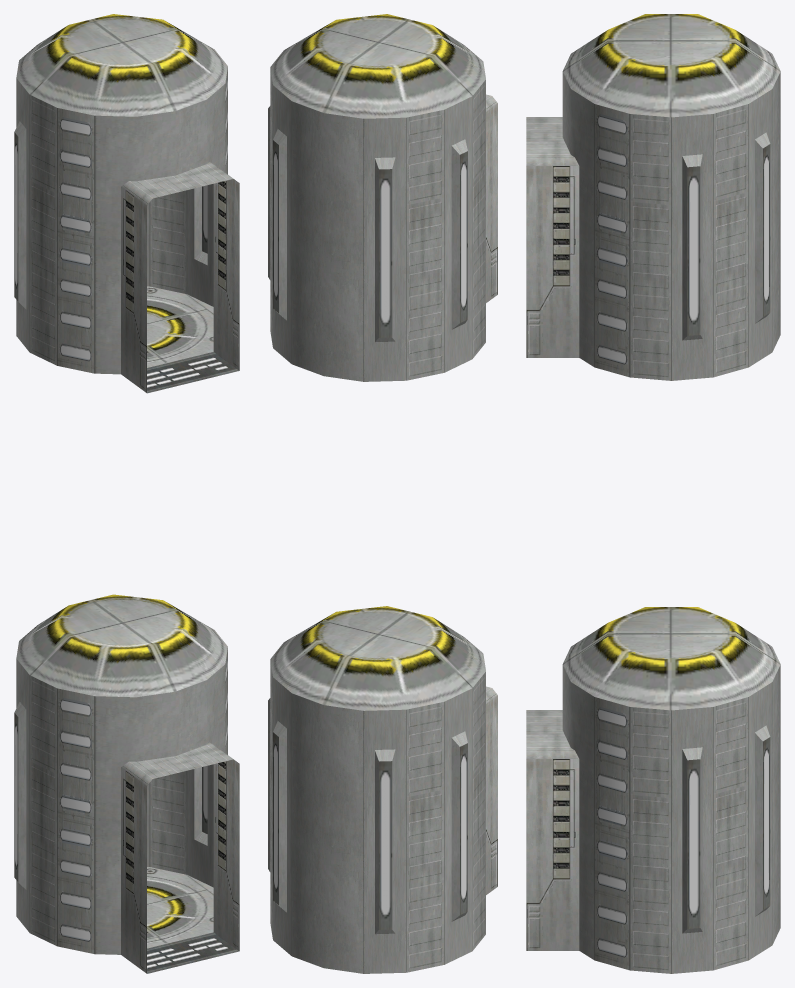
The model's file is thm_tato_lucky_despot_r30_elevator03_mesh_r30.fbx.
3 views of the same model, side by side, from view 1: azimuth 30°, elevation 25°; view 2: azimuth 150°, elevation 25°; view 3: azimuth 270°, elevation 25° (orthographic). The views are drawn at different scales.
Visible parts, largest first — view 1: mesh_node; view 2: mesh_node; view 3: mesh_node.
Part boxes in pixels (x1=…): mesh_node: x1=14, y1=14, x2=239, y2=973; mesh_node: x1=268, y1=14, x2=497, y2=973; mesh_node: x1=526, y1=14, x2=780, y2=973.
Bounding box in the file's own units: 3.12 × 13.46 × 3.5.
